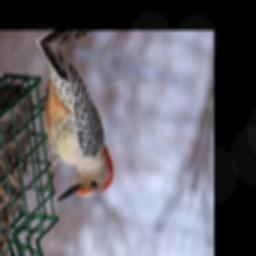Woodpecker: (11, 42, 136, 214)
